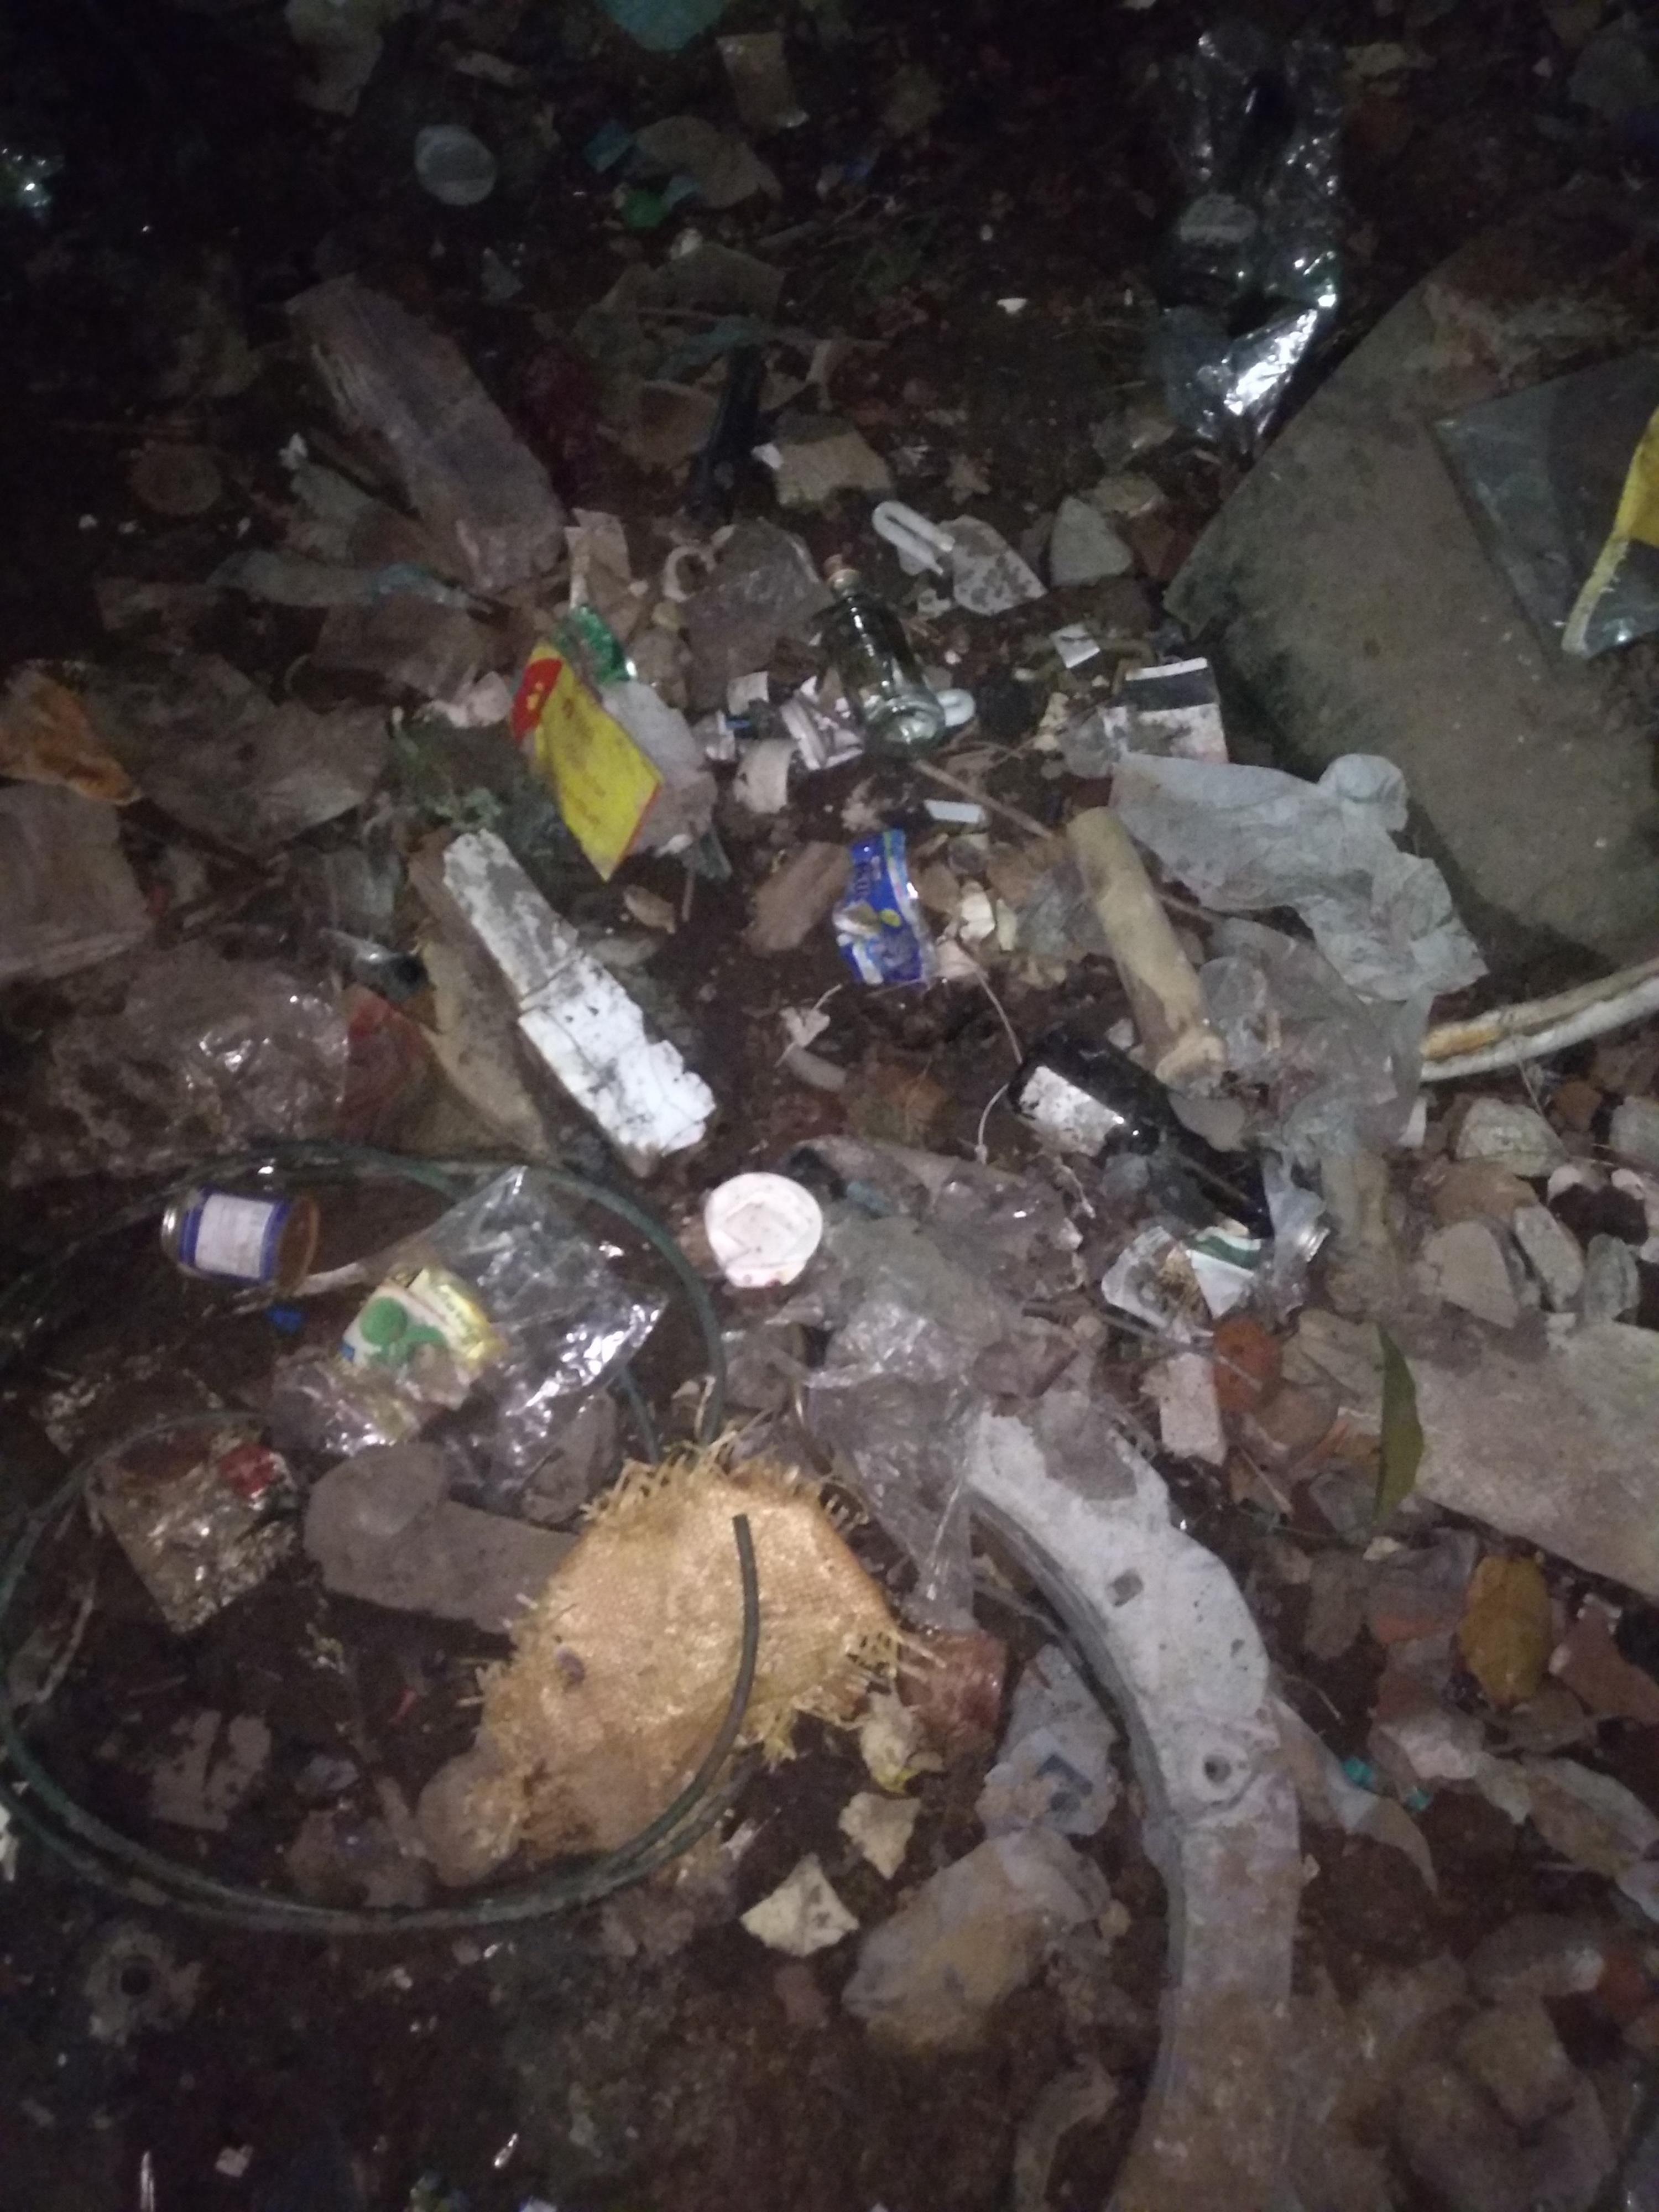organic: (45, 7, 1659, 1947)
